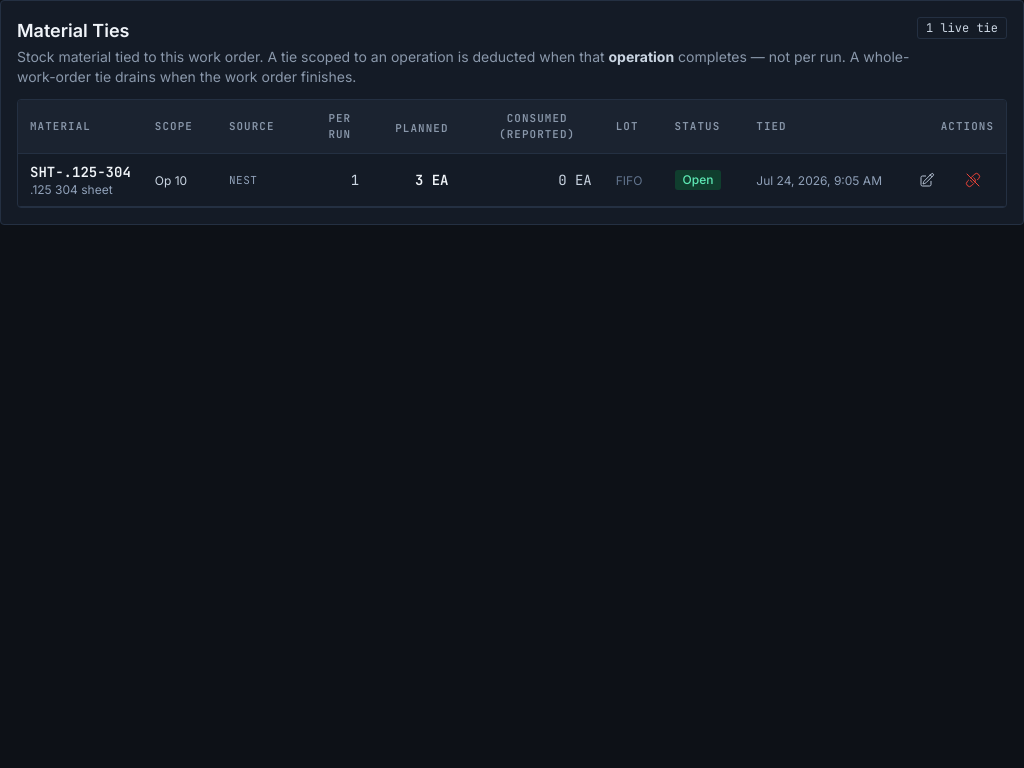
Scenario: MaterialTiesPanel — gated mutations › surfaces an untie refusal VERBATIM and leaves the row exactly as it was
Check: the text "SHT-.125-304" is shown, box [30, 162, 131, 182]
What coordinates should you click on to do the following:
click the button named "Untie SHT-.125-304 from this work order"
I would click on:
 (973, 180)
Its box is [952, 164, 994, 196].
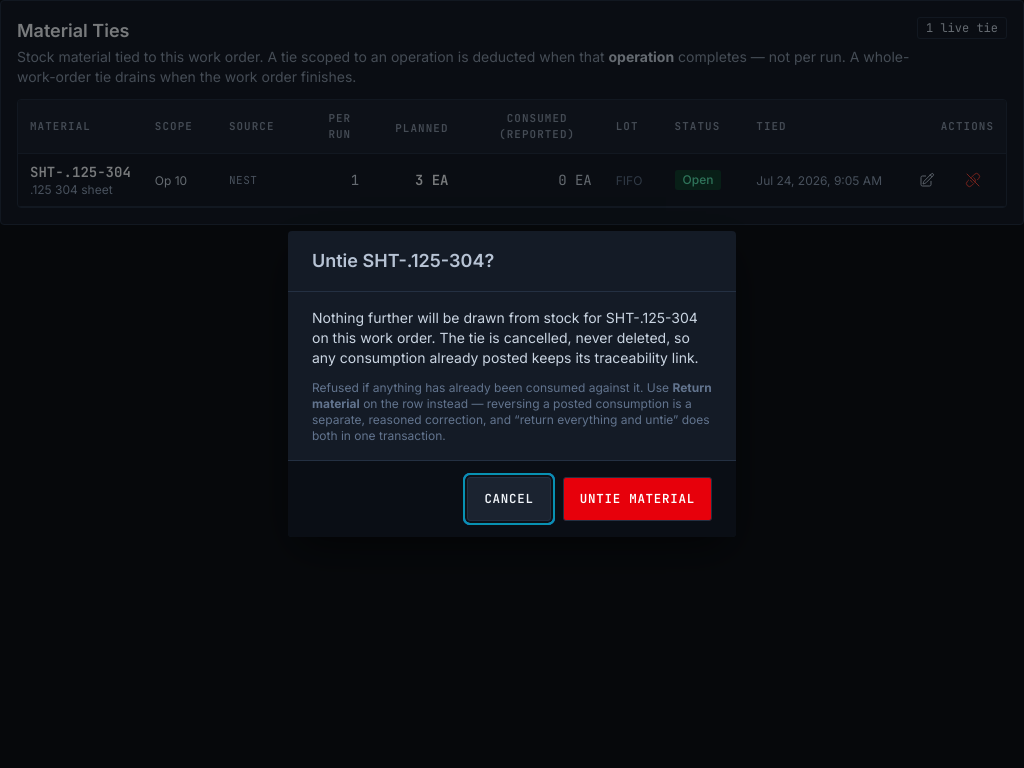
What coordinates should you click on to do the following:
click the button "Untie material"
I would click on:
 (637, 499)
Its box is [563, 477, 712, 521].
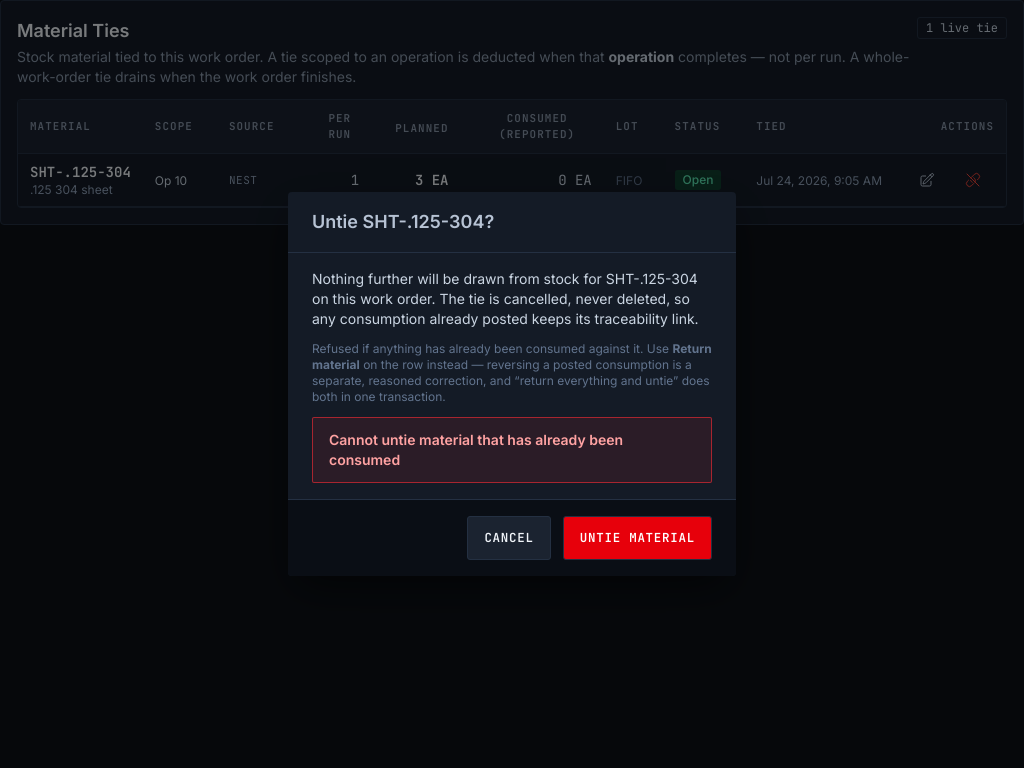
Check: the text "open" is shown, box [675, 170, 722, 190]
Check: the message with test id "wo-tie-untie-error" reads "Cannot untie material that has already been consumed", box [329, 431, 623, 468]
